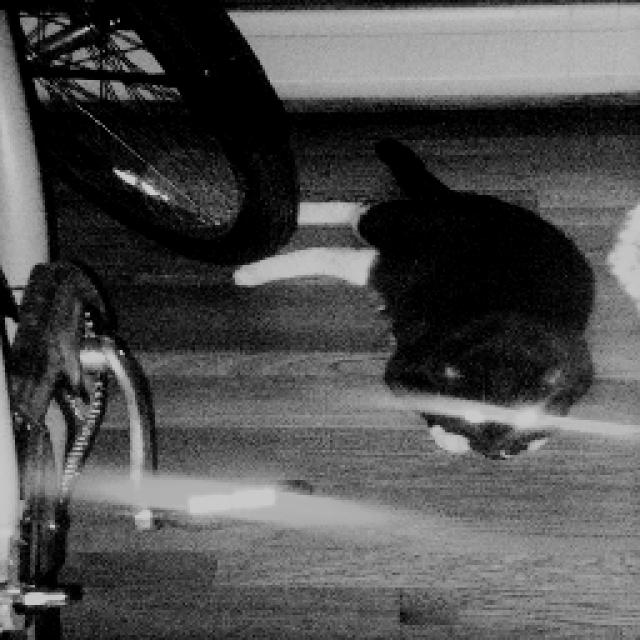cat: (226, 128, 600, 470)
